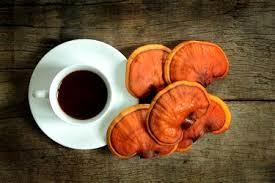Ganoderma - Fruit Body: (105, 39, 233, 160)
